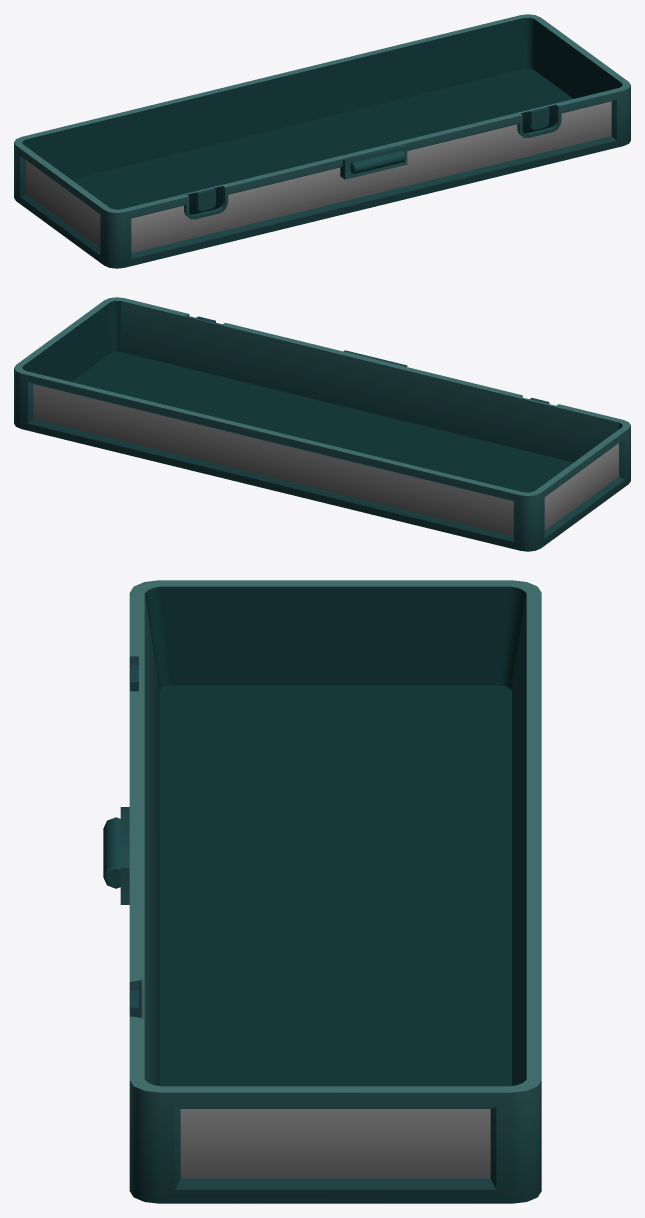
Rendered from Container_04.fbx.
The picture shows the model from 3 angles, top to bottom: view 1: azimuth 30°, elevation 25°; view 2: azimuth 150°, elevation 25°; view 3: azimuth 270°, elevation 25°; orthographic projection. The views are drawn at different scales.
Parts seen in each view (by area): view 1: Container_04; view 2: Container_04; view 3: Container_04.
Part boxes in pixels (x1,y1,x2,y2): Container_04: [14, 14, 630, 268]; Container_04: [14, 297, 630, 551]; Container_04: [103, 580, 541, 1203].
Bounding box in the file's own units: 132 × 13.41 × 47.91.
